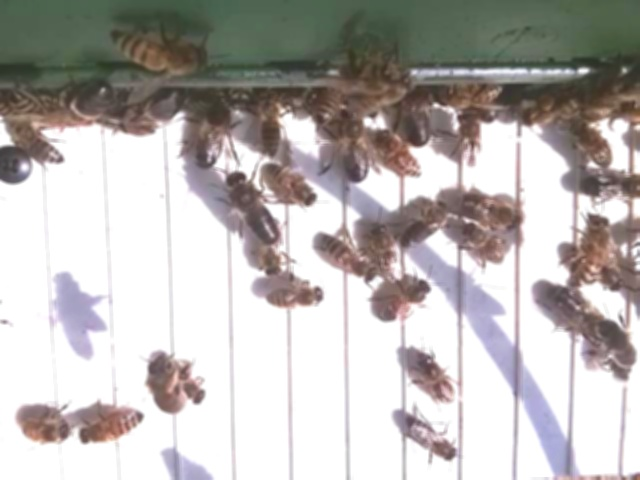Drone: (225, 171, 283, 250), (542, 283, 609, 340), (192, 96, 236, 173), (454, 188, 524, 231), (338, 107, 371, 188)
Worker: (566, 213, 611, 289), (78, 406, 147, 448), (399, 199, 454, 249), (264, 164, 322, 211), (565, 118, 615, 172), (406, 416, 461, 465), (379, 277, 435, 325), (319, 233, 372, 283), (416, 352, 459, 412), (14, 118, 67, 166), (377, 130, 423, 183), (17, 409, 77, 446), (256, 96, 288, 163), (266, 281, 328, 314), (368, 220, 399, 284), (457, 224, 507, 263), (455, 115, 488, 172)
